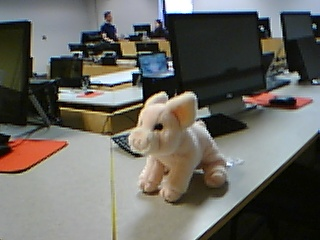piggy: (127, 90, 229, 203)
